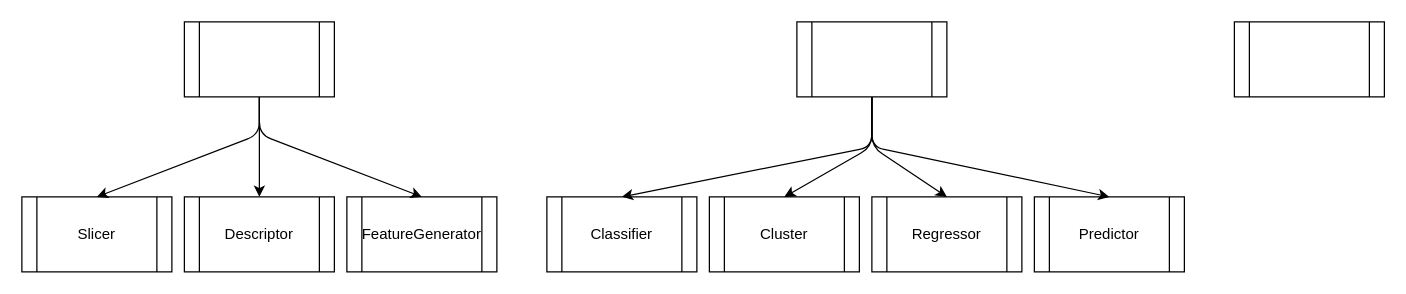
The diagram is 1406 pixels wide and 294 high, and some of its shapes have lost their labels. Here are the shapes that lost their labels. From the top down, the centre of each, then its label:
At pixel 258 59: "Preprocessor".
At pixel 871 59: "Analysis".
At pixel 1308 59: "Postprocessor".
